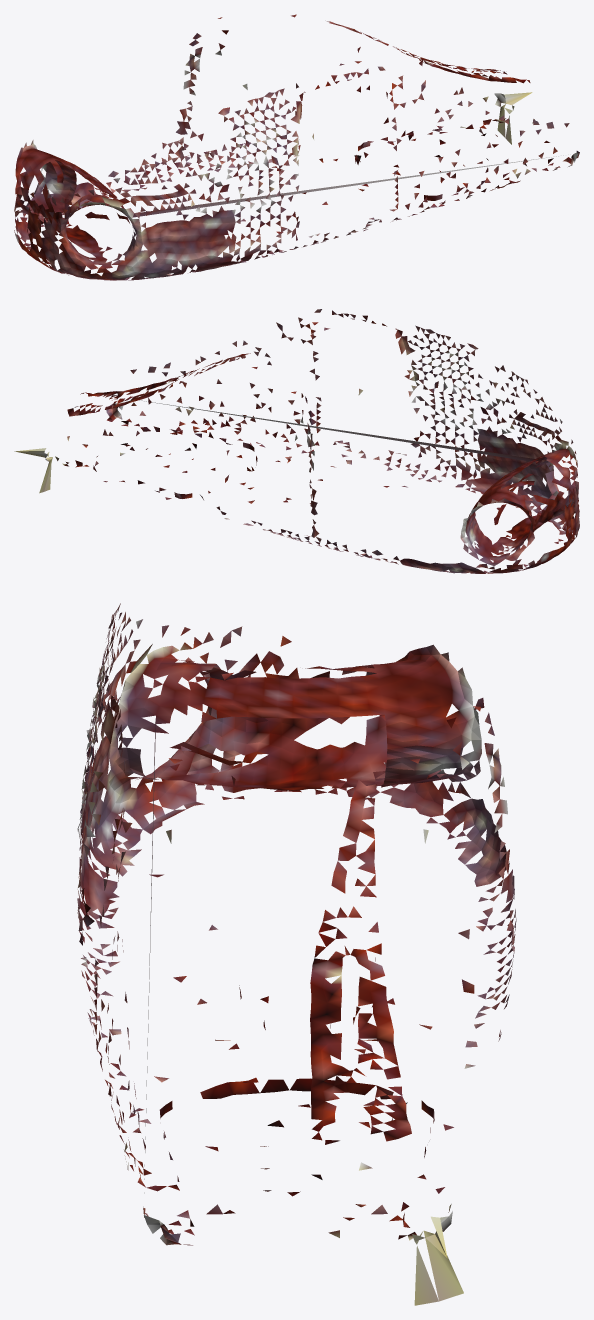
The model's file is whistle_final1000.obj.
3 renders of one model, top to bottom at view 1: azimuth 30°, elevation 25°; view 2: azimuth 150°, elevation 25°; view 3: azimuth 270°, elevation 25°, orthographic. The views are drawn at different scales.
Size of the model in its own units: 2.01 by 0.6694 by 0.7428.
